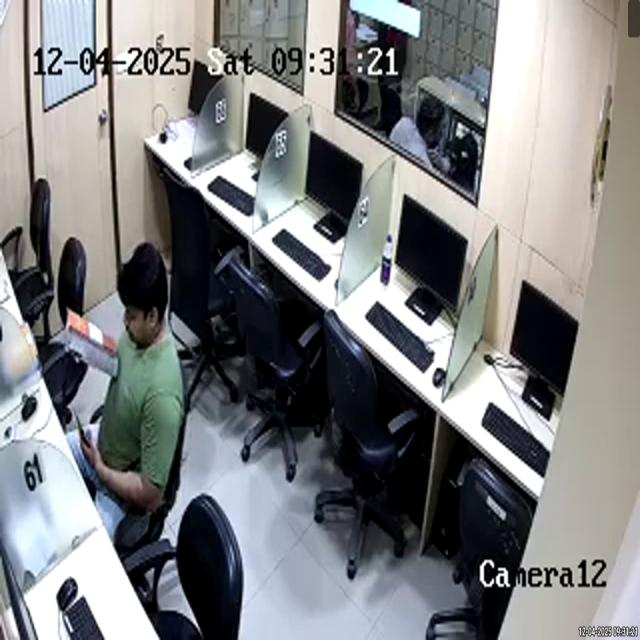phone: (68, 402, 88, 448)
